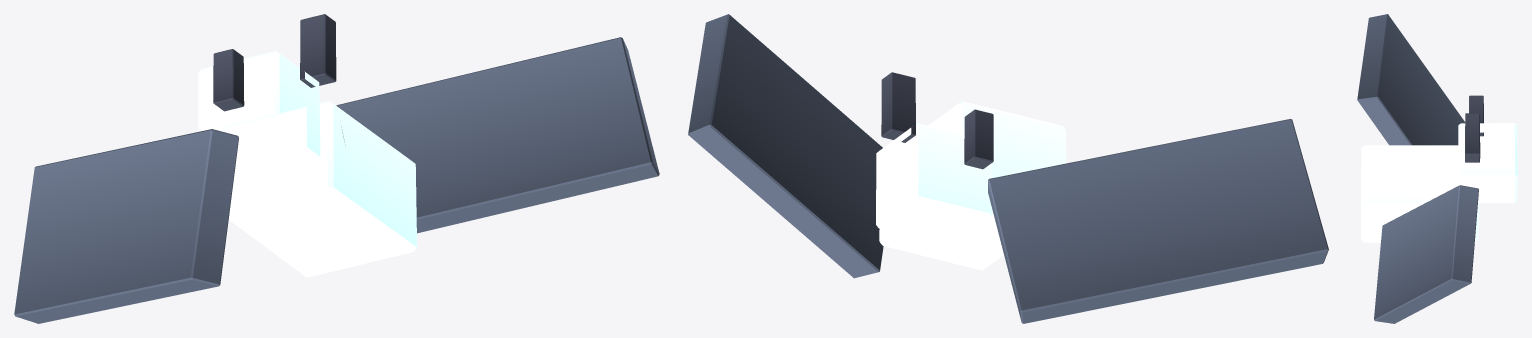
File: crystal_bat.glb
3 views of the same model, side by side, from view 1: azimuth 30°, elevation 25°; view 2: azimuth 150°, elevation 25°; view 3: azimuth 270°, elevation 25° (orthographic). The views are drawn at different scales.
Parts seen in each view (by area): view 1: WingR, WingL, Body, Head, EarR, EarL; view 2: WingL, WingR, Head, Body, EarR, EarL; view 3: WingR, WingL, Body, Head, EarR, EarL.
Part boxes in pixels (<box>): WingR: <box>336,37,659,233</box>; WingL: <box>14,129,238,323</box>; Body: <box>221,101,416,277</box>; Head: <box>198,51,320,178</box>; EarR: <box>300,14,336,87</box>; EarL: <box>213,49,244,111</box>; WingL: <box>988,119,1328,323</box>; WingR: <box>688,14,883,278</box>; Head: <box>876,123,992,245</box>; Body: <box>879,101,1065,270</box>; EarR: <box>881,72,915,142</box>; EarL: <box>964,109,993,169</box>; WingR: <box>1374,185,1478,323</box>; WingL: <box>1357,14,1465,145</box>; Body: <box>1361,145,1479,242</box>; Head: <box>1458,123,1517,203</box>; EarR: <box>1465,113,1480,162</box>; EarL: <box>1469,95,1483,136</box>.
Bounding box in the file's own units: 1.35 × 0.4515 × 0.4249.
